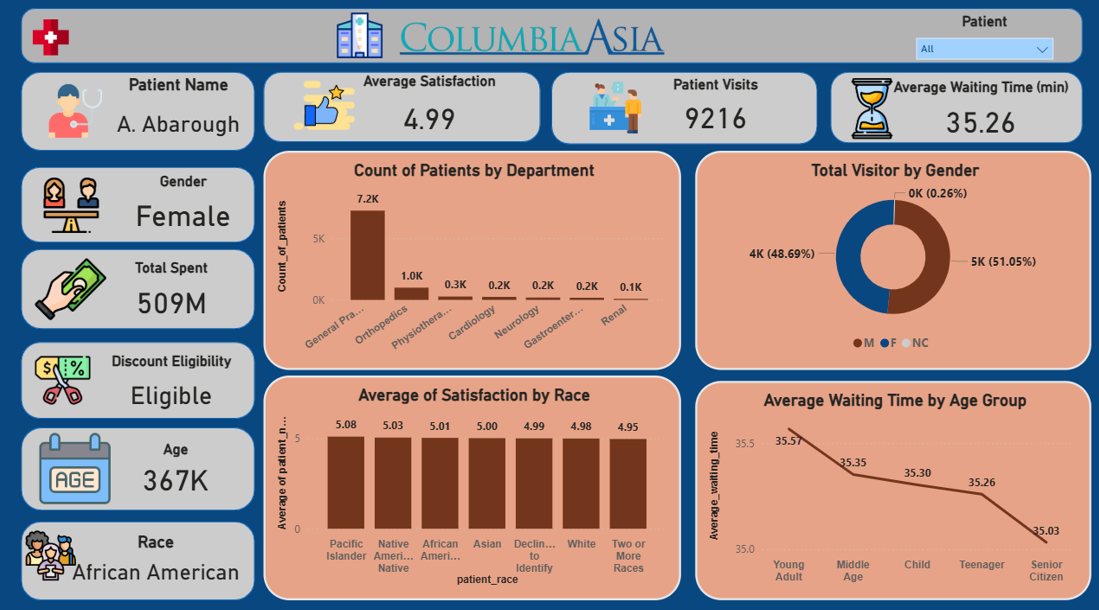

The dashboard page shown, as its layout file describes it:
{"tool":"powerbi","page":{"name":"Patient","canvas":[1280,720],"ordinal":2},"visuals":[{"type":"shape","box":[0,0,1278.8,720],"z":0},{"type":"shape","box":[27.5,88.8,270,91.2],"z":1000},{"type":"shape","box":[307.5,88.8,320,81.2],"z":2000},{"type":"shape","box":[640,88.8,307.5,83.8],"z":3000},{"type":"shape","box":[962.5,88.8,291.2,82.5],"z":4000},{"type":"shape","box":[27.5,198.8,270,87.5],"z":5000},{"type":"shape","box":[27.5,293.8,270,92.5],"z":6000},{"type":"shape","box":[27.5,401.2,270,88.8],"z":7000},{"type":"shape","box":[27.5,608.8,270,91.2],"z":8000},{"type":"shape","box":[27.5,500,270,96.2],"z":9000},{"type":"lineChart","title":"Average Waiting Time by Age Group","fields":{"Y":["All measures.Average_waiting_time"],"Category":["Hospital Info.Age Group"]},"box":[806.2,446.2,457.5,253.8],"z":10000},{"type":"columnChart","title":"Average of Satisfaction by Race","fields":{"Y":["Hospital Info.patient_new_sat_score"],"Category":["Hospital Info.patient_race"]},"box":[307.5,440,482.5,260],"z":11000},{"type":"columnChart","title":"Count of Patients by Department","fields":{"Y":["All measures.Count_of_patients"],"Category":["Hospital Info.department_referral"]},"box":[307.5,180,482.5,253.8],"z":12000},{"type":"pieChart","title":"Total Visitor by Gender","fields":{"Y":["All measures.Count_of_patients"],"Category":["Hospital Info.patient_gender"]},"box":[806.2,180,457.5,253.8],"z":13000},{"type":"card","title":"Race","fields":{"Values":["Hospital Info.patient_race"]},"box":[48.8,621.2,268.8,67.5],"z":14000},{"type":"card","title":"Age ","fields":{"Values":["Hospital Info.patient_age"]},"box":[115,515,182.5,68.8],"z":15000},{"type":"card","title":"Average Waiting Time (min)","fields":{"Values":["All measures.Average_waiting_time"]},"box":[1026.2,96.2,220,77.5],"z":16000},{"type":"card","title":"Average Satisfaction ","fields":{"Values":["All measures.Average_satisfaction_score"]},"box":[387.5,88.8,223.8,83.8],"z":17000},{"type":"card","title":"Patient Visits","fields":{"Values":["All measures.Count_of_patients"]},"box":[745,92.5,170,75],"z":18000},{"type":"card","title":"Total Spent ","fields":{"Values":["All measures.Total_revenue"]},"box":[116.2,305,170,77.5],"z":19000},{"type":"card","title":"Gender","fields":{"Values":["Hospital Info.Gender"]},"box":[122.5,205,185,75],"z":20000},{"type":"card","title":"Patient Name ","fields":{"Values":["Hospital Info.Full name"]},"box":[116.2,92.5,186.2,87.5],"z":21000},{"type":"card","title":"Discount Eligibility ","fields":{"Values":["Doctor Info.Discount_eligibility"]},"box":[110,412.5,182.5,77.5],"z":22000},{"type":"shape","box":[27.5,15,1226.2,63.8],"z":23000},{"type":"slicer","title":"Patient ","fields":{"Values":["Hospital Info.Full name"]},"box":[1051.2,20,178.8,57.5],"z":24000},{"type":"image","box":[405,8.8,425,80],"z":25000},{"type":"image","box":[36.2,20,51.2,57.5],"z":26000},{"type":"image","box":[387.5,13.8,62.5,66.2],"z":27000},{"type":"image","box":[48.8,96.2,82.5,75],"z":28000},{"type":"image","box":[38.8,292.5,92.5,95],"z":29000},{"type":"image","box":[336.2,87.5,82.5,80],"z":30000},{"type":"image","box":[968.8,91.2,82.5,80],"z":31000},{"type":"image","box":[672.5,92.5,82.5,75],"z":32000},{"type":"image","box":[38.8,408.8,73.8,73.8],"z":33000},{"type":"image","box":[43.8,500,92.5,95],"z":34000},{"type":"image","box":[25,608.8,73.8,78.8],"z":35000},{"type":"image","box":[46.2,206.2,78.8,73.8],"z":36000}]}

Visuals, with their boxes in screenshot pixels (x1, y1, x2, y2), scaled from the page's 1280x720 canvas onto the 1099x610 screenshot:
shape: <region>0, 0, 1098, 609</region>
shape: <region>24, 75, 255, 152</region>
shape: <region>264, 75, 539, 144</region>
shape: <region>550, 75, 814, 146</region>
shape: <region>826, 75, 1076, 145</region>
shape: <region>24, 168, 255, 243</region>
shape: <region>24, 249, 255, 327</region>
shape: <region>24, 340, 255, 415</region>
shape: <region>24, 516, 255, 593</region>
shape: <region>24, 424, 255, 505</region>
"Average Waiting Time by Age Group" lineChart: <region>692, 378, 1085, 593</region>
"Average of Satisfaction by Race" columnChart: <region>264, 373, 678, 593</region>
"Count of Patients by Department" columnChart: <region>264, 152, 678, 368</region>
"Total Visitor by Gender" pieChart: <region>692, 152, 1085, 368</region>
"Race" card: <region>42, 526, 273, 583</region>
"Age " card: <region>99, 436, 255, 495</region>
"Average Waiting Time (min)" card: <region>881, 82, 1070, 147</region>
"Average Satisfaction " card: <region>333, 75, 525, 146</region>
"Patient Visits" card: <region>640, 78, 786, 142</region>
"Total Spent " card: <region>100, 258, 246, 324</region>
"Gender" card: <region>105, 174, 264, 237</region>
"Patient Name " card: <region>100, 78, 260, 152</region>
"Discount Eligibility " card: <region>94, 349, 251, 415</region>
shape: <region>24, 13, 1076, 67</region>
"Patient " slicer: <region>903, 17, 1056, 66</region>
image: <region>348, 7, 713, 75</region>
image: <region>31, 17, 75, 66</region>
image: <region>333, 12, 386, 68</region>
image: <region>42, 82, 113, 145</region>
image: <region>33, 248, 113, 328</region>
image: <region>289, 74, 359, 142</region>
image: <region>832, 77, 903, 145</region>
image: <region>577, 78, 648, 142</region>
image: <region>33, 346, 97, 409</region>
image: <region>38, 424, 117, 504</region>
image: <region>21, 516, 85, 583</region>
image: <region>40, 175, 107, 237</region>
